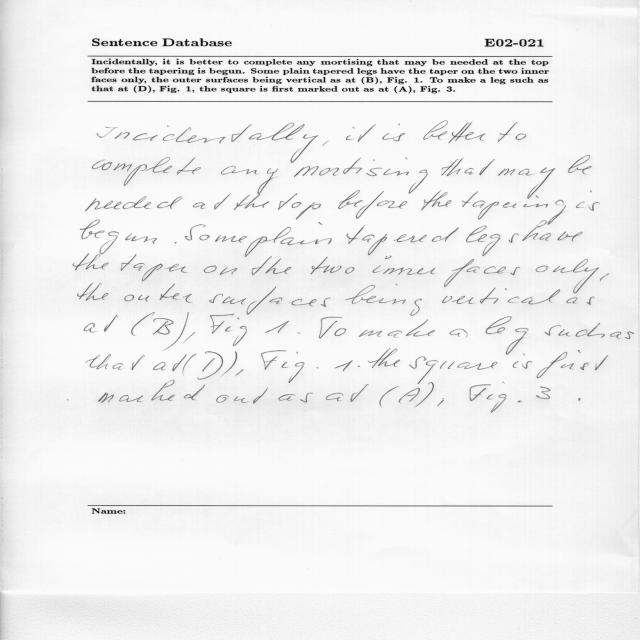word: (98, 122, 319, 163), (294, 158, 428, 194), (462, 185, 566, 225), (209, 286, 331, 315), (346, 225, 459, 255), (92, 157, 201, 186), (245, 222, 332, 257), (80, 220, 157, 255), (409, 356, 497, 384), (99, 380, 205, 403), (346, 284, 422, 316), (536, 259, 600, 293), (444, 259, 520, 287), (537, 350, 609, 378), (442, 288, 560, 305), (339, 190, 408, 219), (261, 350, 318, 383), (498, 167, 555, 199), (486, 316, 529, 355), (120, 256, 187, 281), (470, 382, 522, 413), (466, 226, 519, 256), (183, 351, 237, 380), (86, 196, 183, 211), (359, 319, 435, 338), (424, 121, 486, 143), (124, 283, 192, 303), (522, 220, 583, 242), (234, 178, 275, 210), (373, 256, 436, 275), (210, 314, 247, 346), (185, 224, 247, 243), (278, 194, 321, 220), (441, 158, 495, 176), (164, 313, 189, 351), (544, 323, 605, 338), (399, 382, 434, 407), (216, 388, 268, 404), (252, 256, 292, 275), (311, 257, 355, 274), (368, 348, 400, 368), (221, 166, 278, 177), (421, 191, 452, 211), (319, 317, 346, 339), (84, 315, 118, 332), (131, 312, 155, 336), (193, 194, 231, 209), (498, 122, 526, 142), (346, 124, 376, 142), (78, 283, 108, 301), (576, 190, 600, 211), (73, 256, 109, 270), (112, 355, 145, 370), (568, 155, 592, 175), (379, 386, 399, 407), (382, 124, 405, 141), (86, 354, 111, 369), (153, 318, 174, 335), (278, 393, 313, 403), (350, 384, 369, 402), (204, 265, 237, 275), (512, 353, 532, 369), (265, 321, 289, 333), (566, 296, 595, 305), (153, 350, 166, 370), (172, 355, 187, 372), (334, 360, 353, 371), (610, 331, 634, 339), (536, 386, 550, 399), (450, 329, 468, 337), (326, 393, 343, 401), (184, 332, 196, 343), (600, 274, 609, 282), (235, 370, 244, 377), (437, 398, 444, 407), (323, 141, 329, 146), (578, 398, 581, 401), (175, 242, 177, 244), (298, 332, 300, 334), (358, 366, 360, 367)
